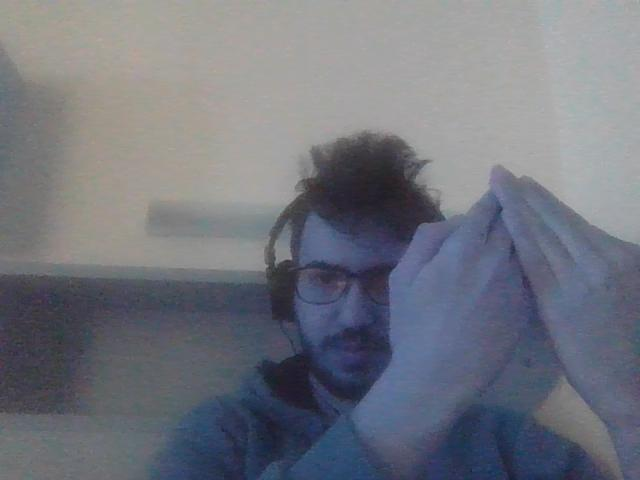thank you: (381, 160, 638, 430)
